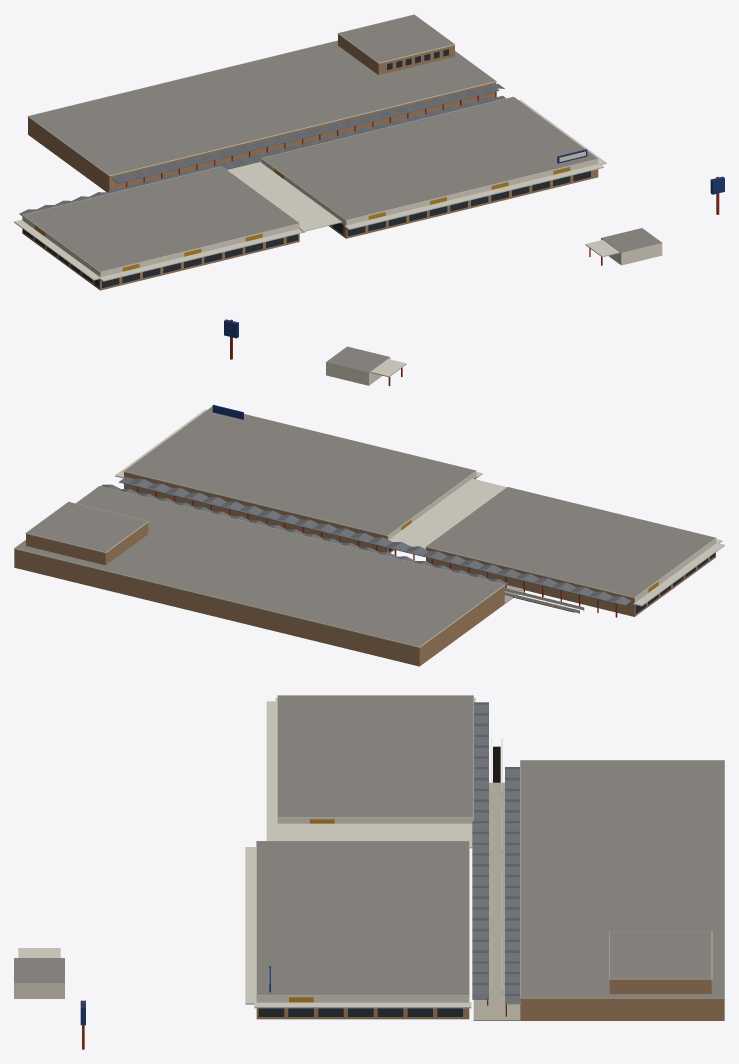
File: park-plaza-1961.glb
The picture shows the model from 3 angles, top to bottom: view 1: azimuth 30°, elevation 25°; view 2: azimuth 150°, elevation 25°; view 3: azimuth 270°, elevation 25°; orthographic projection. The views are drawn at different scales.
Visible parts, largest first — view 1: park_roof, park_brick, park_canopy, park_fascia, park_plate, park_glass, park_mosaic; view 2: park_roof, park_brick, park_plate, park_fascia, park_canopy, park_rail, park_post; view 3: park_roof, park_canopy, park_plate, park_brick, park_fascia, park_deck, park_glass, park_rail.
Boxes of the visible parts, box(x1,y1,x2,y2) form: park_roof: box(23, 15, 661, 271); park_brick: box(22, 34, 598, 290); park_canopy: box(14, 99, 619, 281); park_fascia: box(22, 14, 662, 277); park_plate: box(19, 84, 505, 215); park_glass: box(23, 49, 590, 288); park_mosaic: box(35, 167, 570, 271); park_roof: box(15, 346, 715, 646); park_brick: box(14, 472, 715, 666); park_plate: box(101, 477, 631, 605); park_fascia: box(14, 357, 716, 647); park_canopy: box(115, 359, 724, 606); park_rail: box(504, 588, 584, 613); park_post: box(137, 319, 617, 617); park_roof: box(14, 695, 724, 997); park_canopy: box(18, 697, 475, 1008); park_plate: box(472, 702, 521, 1004); park_brick: box(256, 979, 724, 1020); park_fascia: box(14, 695, 724, 1002); park_deck: box(473, 782, 520, 1020); park_glass: box(258, 1008, 462, 1016); park_rail: box(491, 738, 502, 993).
Bounding box in the file's own units: 189 × 12.45 × 167.
